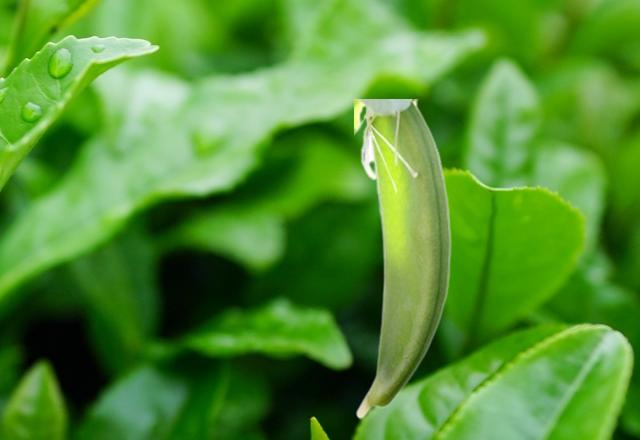pea: (354, 99, 453, 418)
